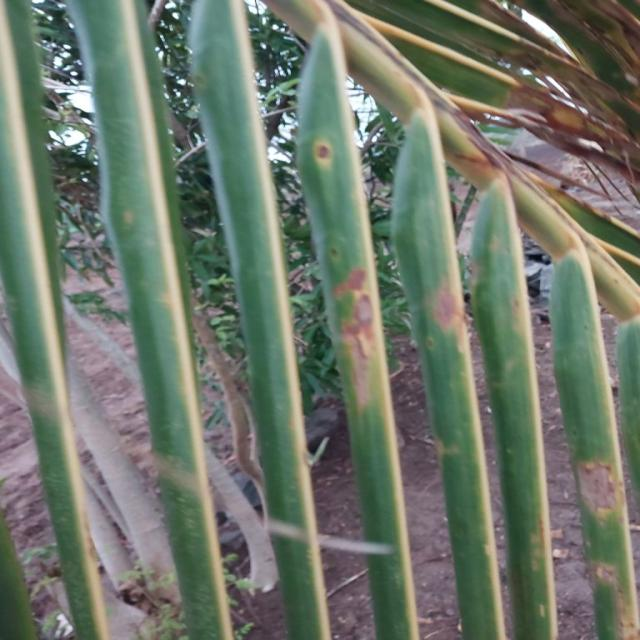gray leaf spot: (328, 0, 640, 293), (293, 27, 420, 634), (393, 108, 487, 465), (567, 424, 640, 639)
